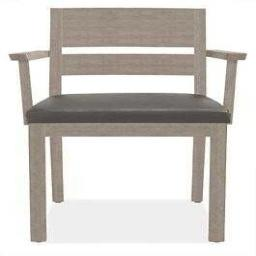Chair: (9, 7, 248, 241)
